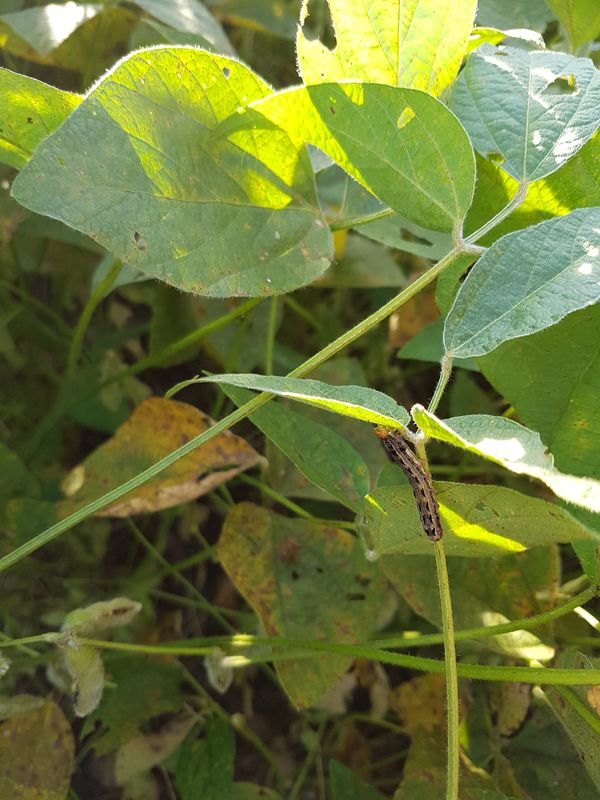Euschistus_heros_adulto: (270, 530, 314, 569)
Spodoptera_albula: (350, 413, 473, 559)
